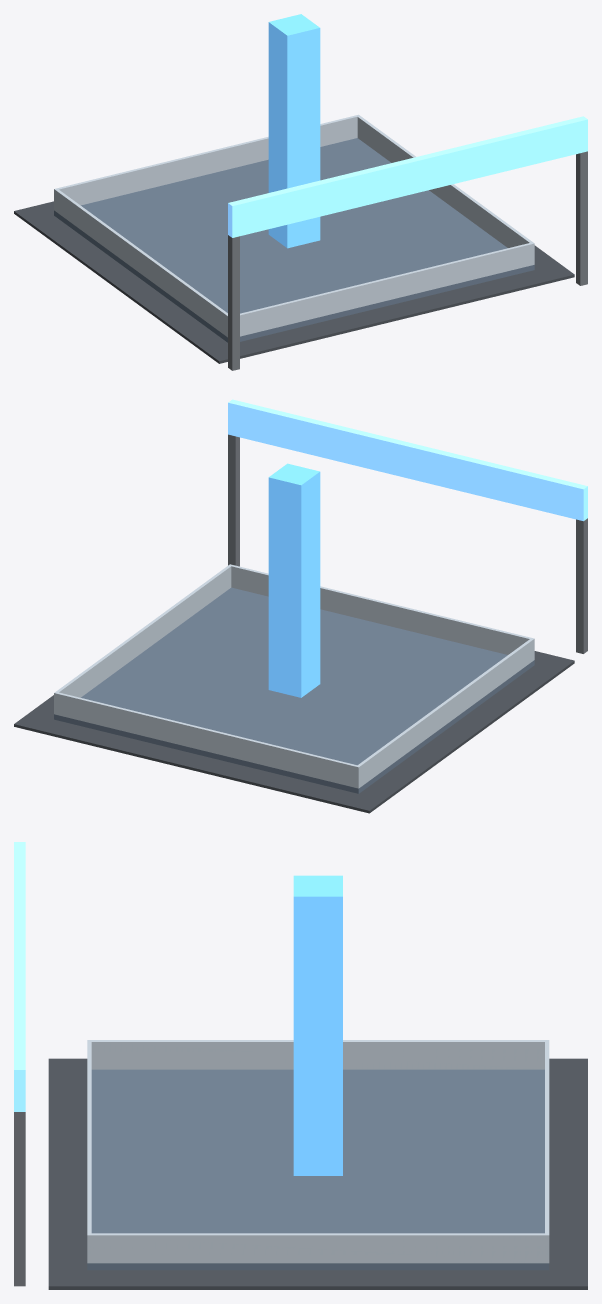
File: pack-trade-school.glb
3 renders of one model, top to bottom at view 1: azimuth 30°, elevation 25°; view 2: azimuth 150°, elevation 25°; view 3: azimuth 270°, elevation 25°, orthographic. The views are drawn at different scales.
Parts seen in each view (by area): view 1: Trade School; view 2: Trade School; view 3: Trade School.
Boxes of the visible parts, x1,y1,x2,y2 form: Trade School: [14, 14, 587, 370]; Trade School: [14, 399, 587, 813]; Trade School: [14, 842, 587, 1289].
Bounding box in the file's own units: 14 × 8.3 × 14.9.
